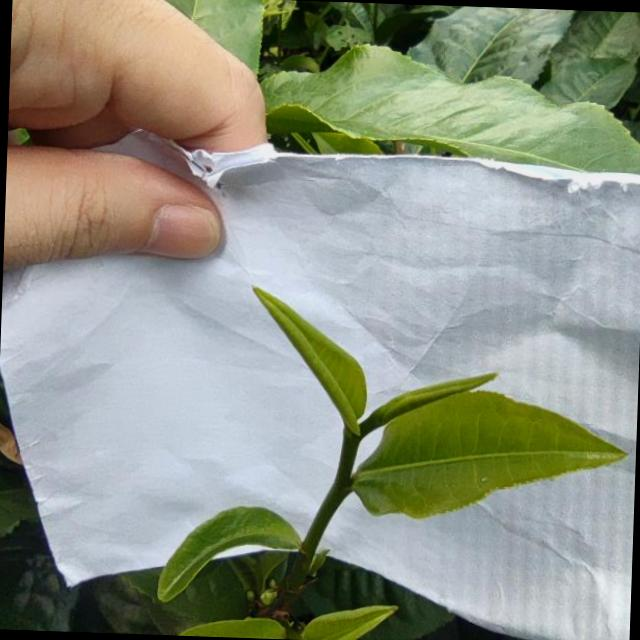Stem: (340, 436, 356, 456)
